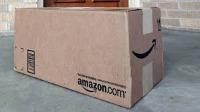undamaged: (11, 5, 164, 110)
